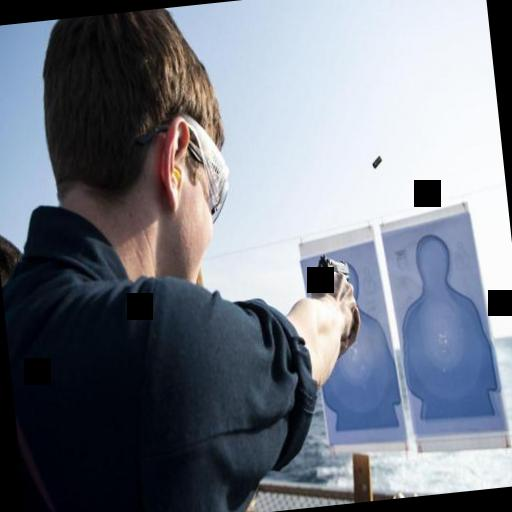Handgun: (310, 246, 354, 299)
